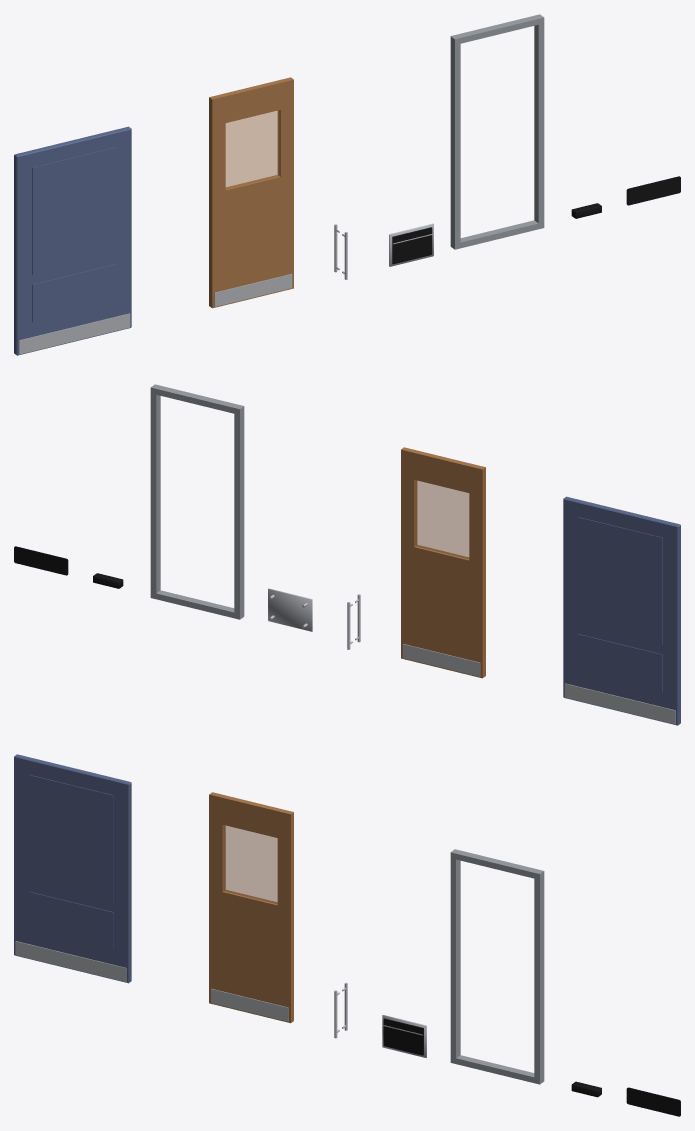
The model's file is Doors_01.glb.
3 renders of one model, top to bottom at view 1: azimuth 30°, elevation 25°; view 2: azimuth 150°, elevation 25°; view 3: azimuth 330°, elevation 25°, orthographic.
Parts seen in each view (by area): view 1: DoorLeaf_Leaf, DoorLeafGlazed_Leaf, SlideDoorFrame_Frame, DoorLeafGlazed_Glass, DoorLeaf_Kick, DoorLeafGlazed_Kick, NamePlaque_Face, DoorSign_Plate; view 2: DoorLeaf_Leaf, DoorLeafGlazed_Leaf, SlideDoorFrame_Frame, DoorLeafGlazed_Glass, DoorLeaf_Kick, NamePlaque_Steel, DoorLeafGlazed_Kick, DoorSign_Plate; view 3: DoorLeaf_Leaf, DoorLeafGlazed_Leaf, SlideDoorFrame_Frame, DoorLeafGlazed_Glass, DoorLeaf_Kick, DoorLeafGlazed_Kick, NamePlaque_Face, DoorSign_Plate.
Part boxes in pixels (left/top/right/bottom): DoorLeaf_Leaf: left=14, top=126, right=131, bottom=355; DoorLeafGlazed_Leaf: left=209, top=77, right=293, bottom=308; SlideDoorFrame_Frame: left=450, top=14, right=544, bottom=249; DoorLeafGlazed_Glass: left=225, top=110, right=279, bottom=189; DoorLeaf_Kick: left=19, top=313, right=130, bottom=354; DoorLeafGlazed_Kick: left=214, top=274, right=292, bottom=306; NamePlaque_Face: left=392, top=227, right=432, bottom=264; DoorSign_Plate: left=626, top=176, right=680, bottom=205; DoorLeaf_Leaf: left=563, top=496, right=680, bottom=725; DoorLeafGlazed_Leaf: left=401, top=447, right=485, bottom=678; SlideDoorFrame_Frame: left=150, top=384, right=244, bottom=619; DoorLeafGlazed_Glass: left=415, top=480, right=469, bottom=559; DoorLeaf_Kick: left=564, top=683, right=675, bottom=724; NamePlaque_Steel: left=268, top=588, right=312, bottom=631; DoorLeafGlazed_Kick: left=402, top=644, right=480, bottom=676; DoorSign_Plate: left=14, top=546, right=68, bottom=575; DoorLeaf_Leaf: left=14, top=754, right=131, bottom=983; DoorLeafGlazed_Leaf: left=209, top=792, right=293, bottom=1023; SlideDoorFrame_Frame: left=450, top=849, right=544, bottom=1084; DoorLeafGlazed_Glass: left=223, top=825, right=277, bottom=903; DoorLeaf_Kick: left=15, top=941, right=126, bottom=982; DoorLeafGlazed_Kick: left=211, top=988, right=288, bottom=1021; NamePlaque_Face: left=383, top=1018, right=423, bottom=1055; DoorSign_Plate: left=626, top=1087, right=680, bottom=1116.
Bounding box in the file's own units: 29.78 × 9 × 0.93.
